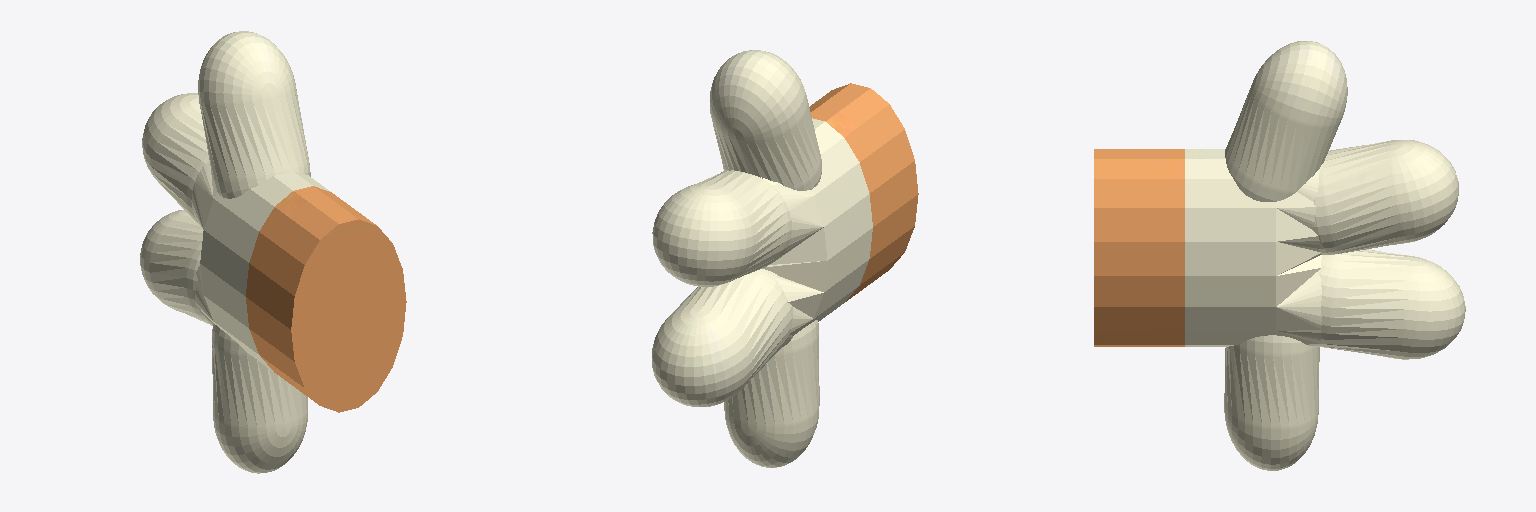
3 views of the same model, side by side, from view 1: azimuth 30°, elevation 25°; view 2: azimuth 150°, elevation 25°; view 3: azimuth 270°, elevation 25° (orthographic).
Visible parts, largest first — view 1: Cylinder019; view 2: Cylinder019; view 3: Cylinder019.
Boxes of the visible parts, <box> form: Cylinder019: <box>140,31,406,473</box>; Cylinder019: <box>652,50,918,467</box>; Cylinder019: <box>1094,41,1465,470</box>.
Size of the model in its own units: 5.69 by 19.94 by 15.86.
1 materials, 1 textured.